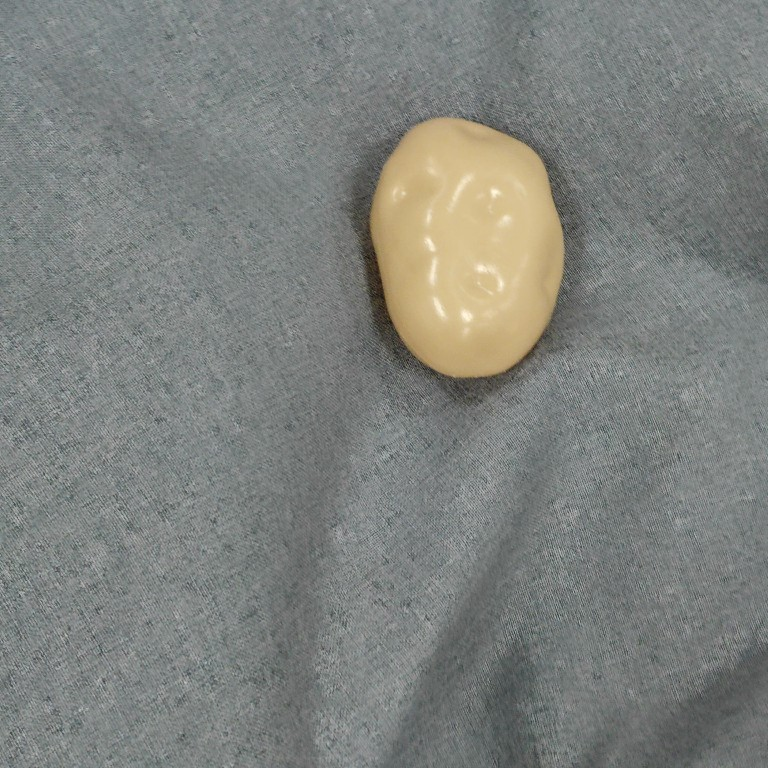fruit_potato: (363, 113, 568, 388)
